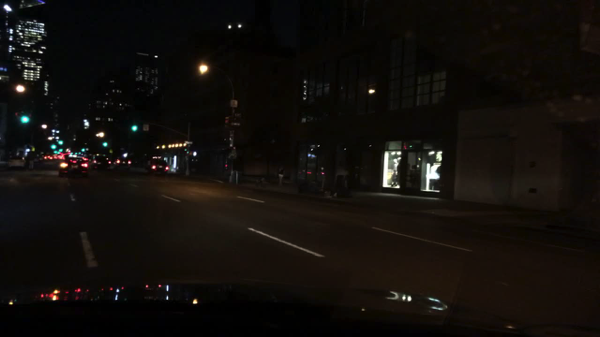car: (58, 155, 90, 177), (145, 158, 169, 175), (90, 155, 112, 170), (7, 155, 26, 168), (114, 158, 131, 169), (34, 155, 43, 162), (44, 155, 53, 160), (54, 155, 63, 160)
person: (26, 147, 37, 170), (278, 166, 286, 184)
traffic light: (22, 117, 30, 123), (191, 151, 198, 157), (225, 116, 228, 130), (132, 125, 137, 131), (51, 145, 56, 149), (103, 142, 107, 147), (59, 141, 63, 145), (81, 148, 85, 151), (59, 149, 63, 152), (186, 151, 190, 154), (54, 151, 57, 154)
traffic sign: (143, 124, 149, 132), (231, 100, 237, 107), (231, 123, 241, 127), (184, 141, 193, 145)
